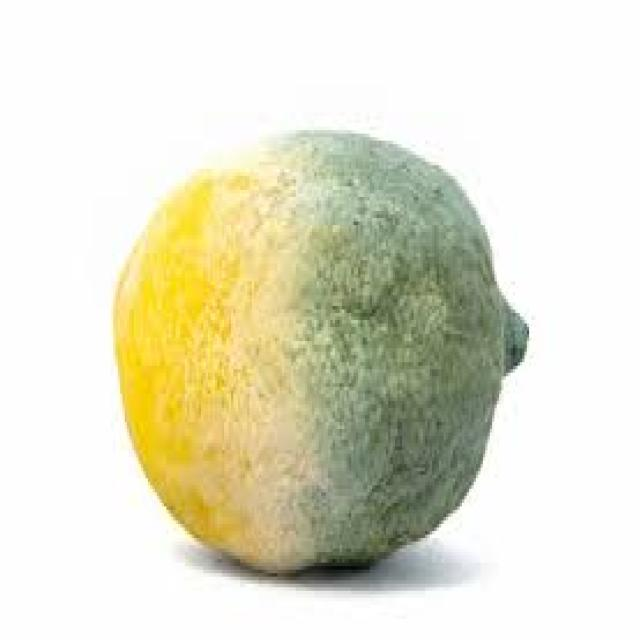Rotten: (113, 126, 532, 577)
